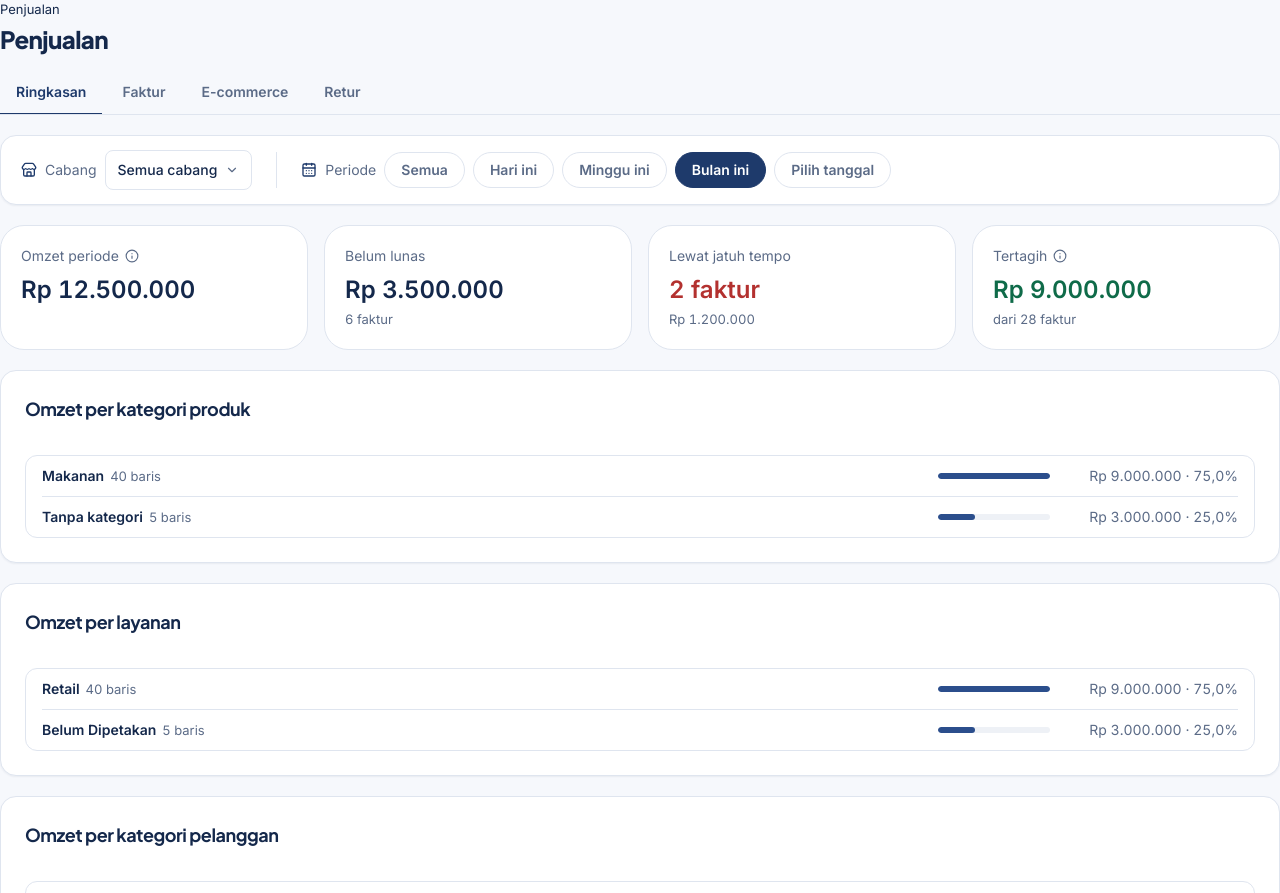
SalesSummaryScreen › re-asks both endpoints when a chip or the cabang changes
Click the button "Hari ini".
click(514, 170)  # box top-left (473, 152), bottom-right (554, 188)
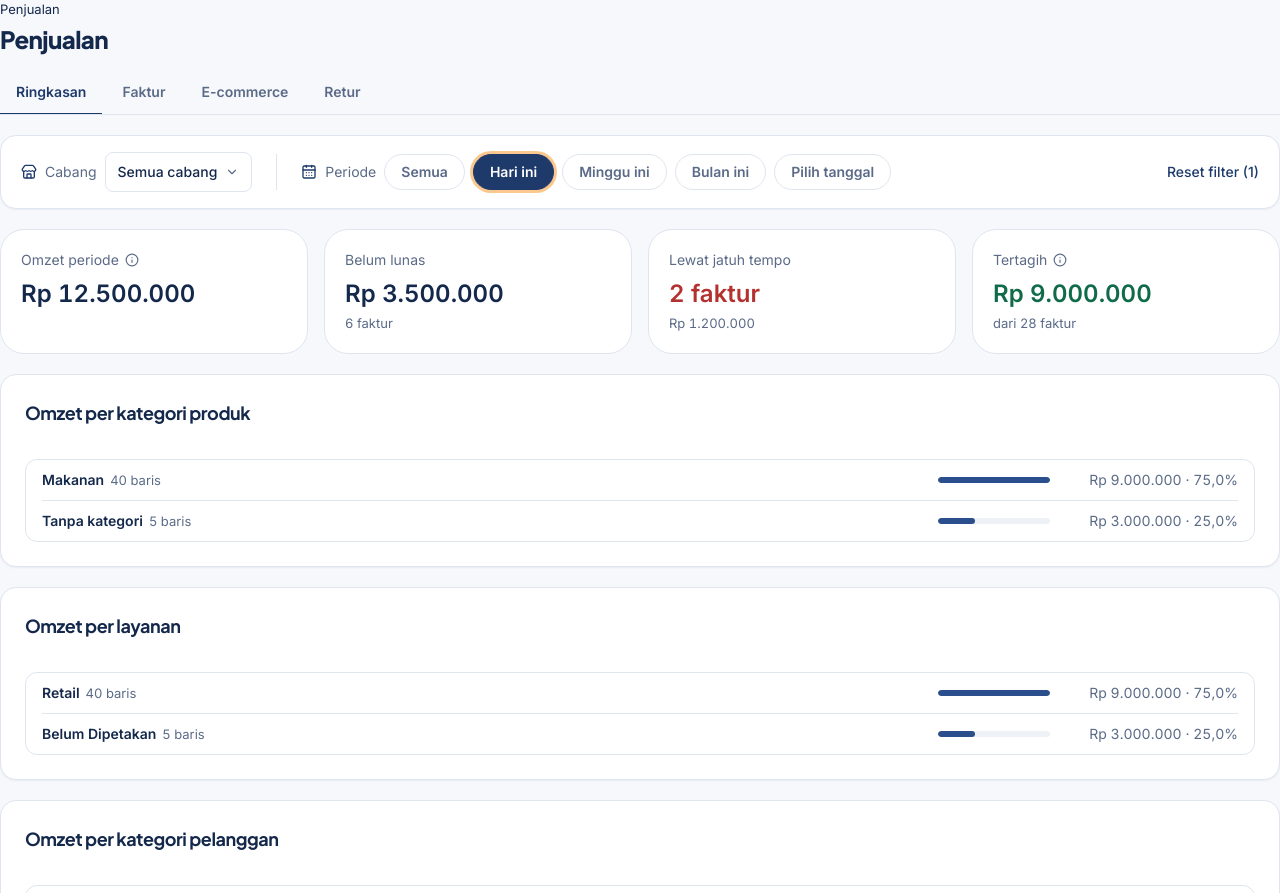
Note: Several cabang may be ticked, so a pick waits for Terapkan.
Click the button "Semua cabang".
click(178, 172)  # box top-left (104, 152), bottom-right (252, 192)
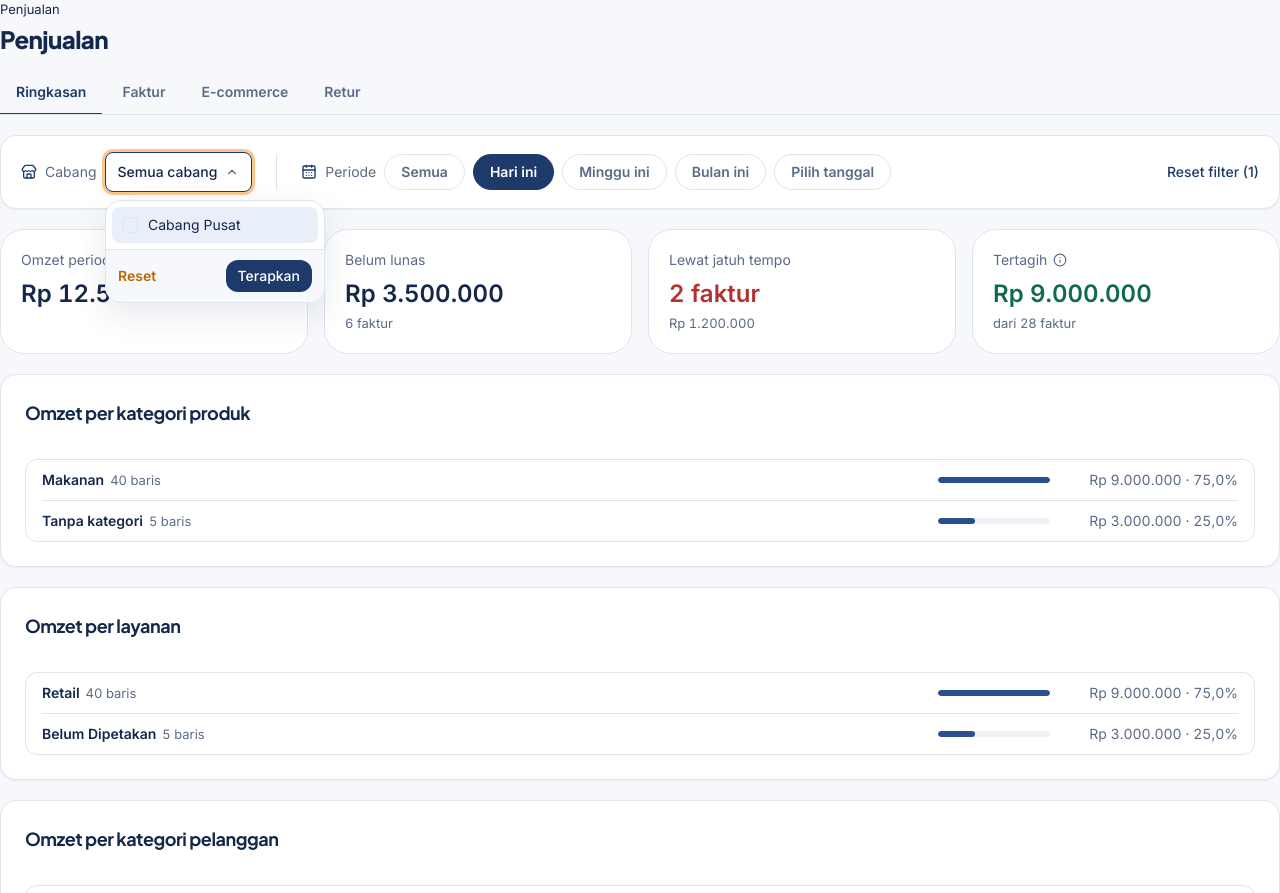
Click the option "Cabang Pusat".
click(215, 225)  # box top-left (112, 207), bottom-right (318, 243)
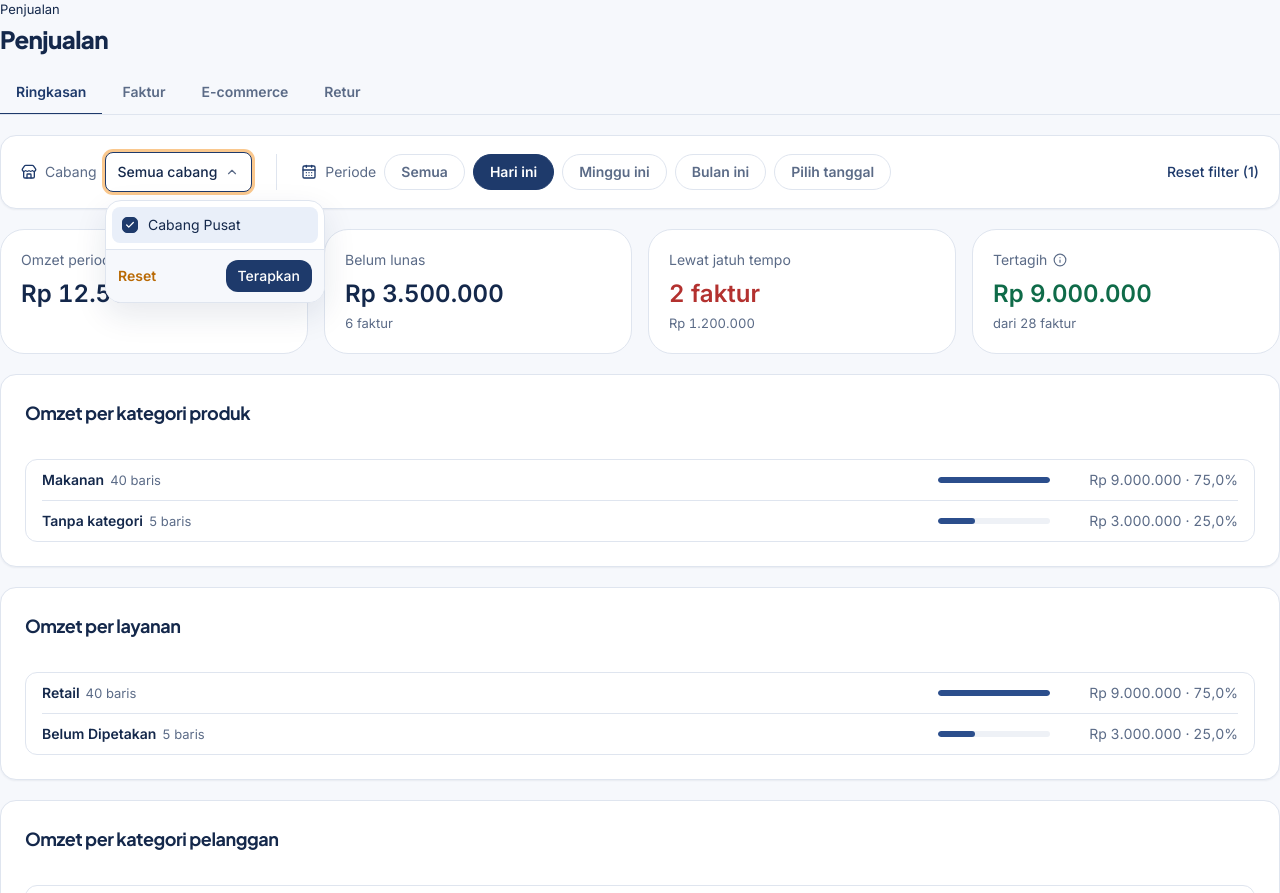
Click the button "Terapkan".
click(269, 276)  # box top-left (226, 260), bottom-right (312, 292)
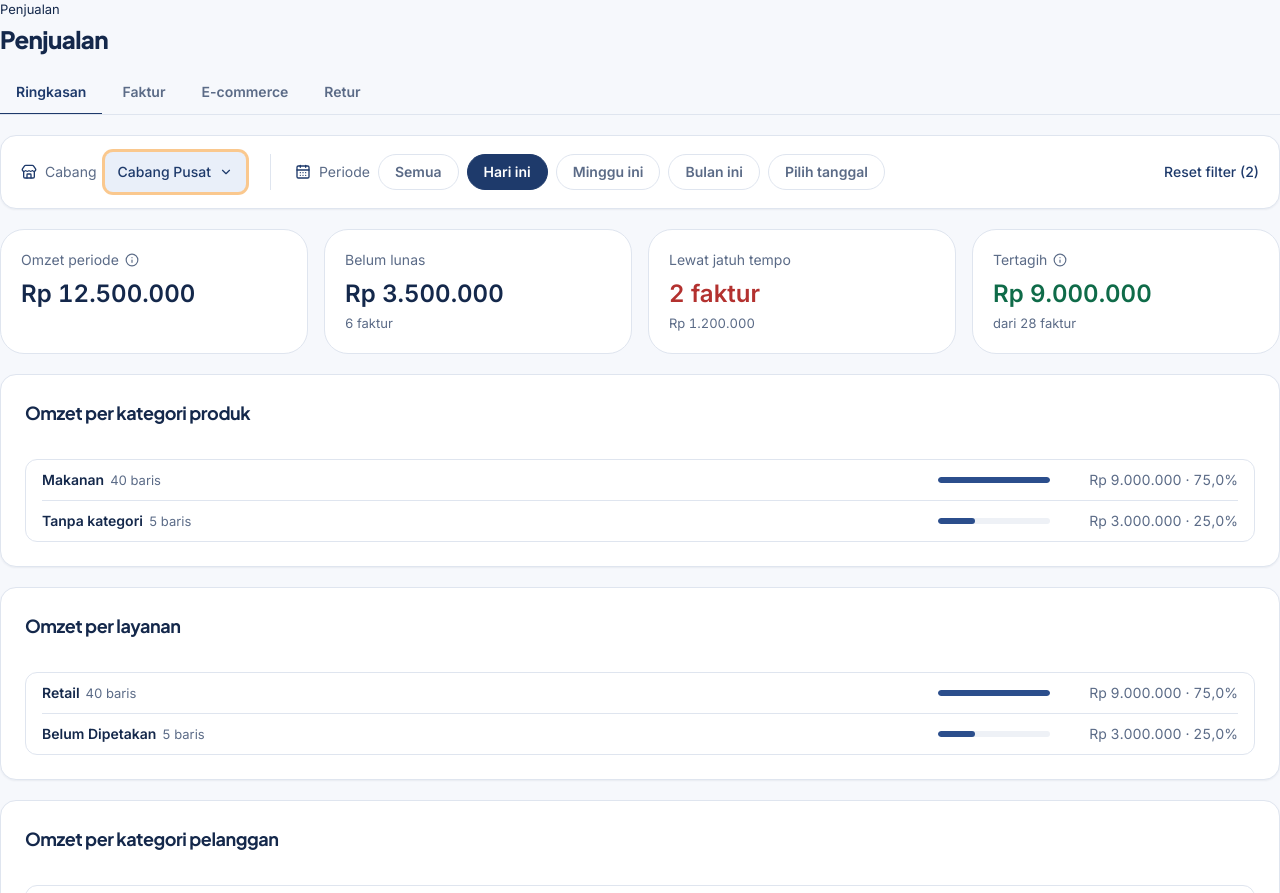
Note: Two off the default — a cabang and a period that is not Bulan ini.
Click the button "Reset filter (2)".
click(1212, 172)  # box top-left (1164, 150), bottom-right (1259, 194)
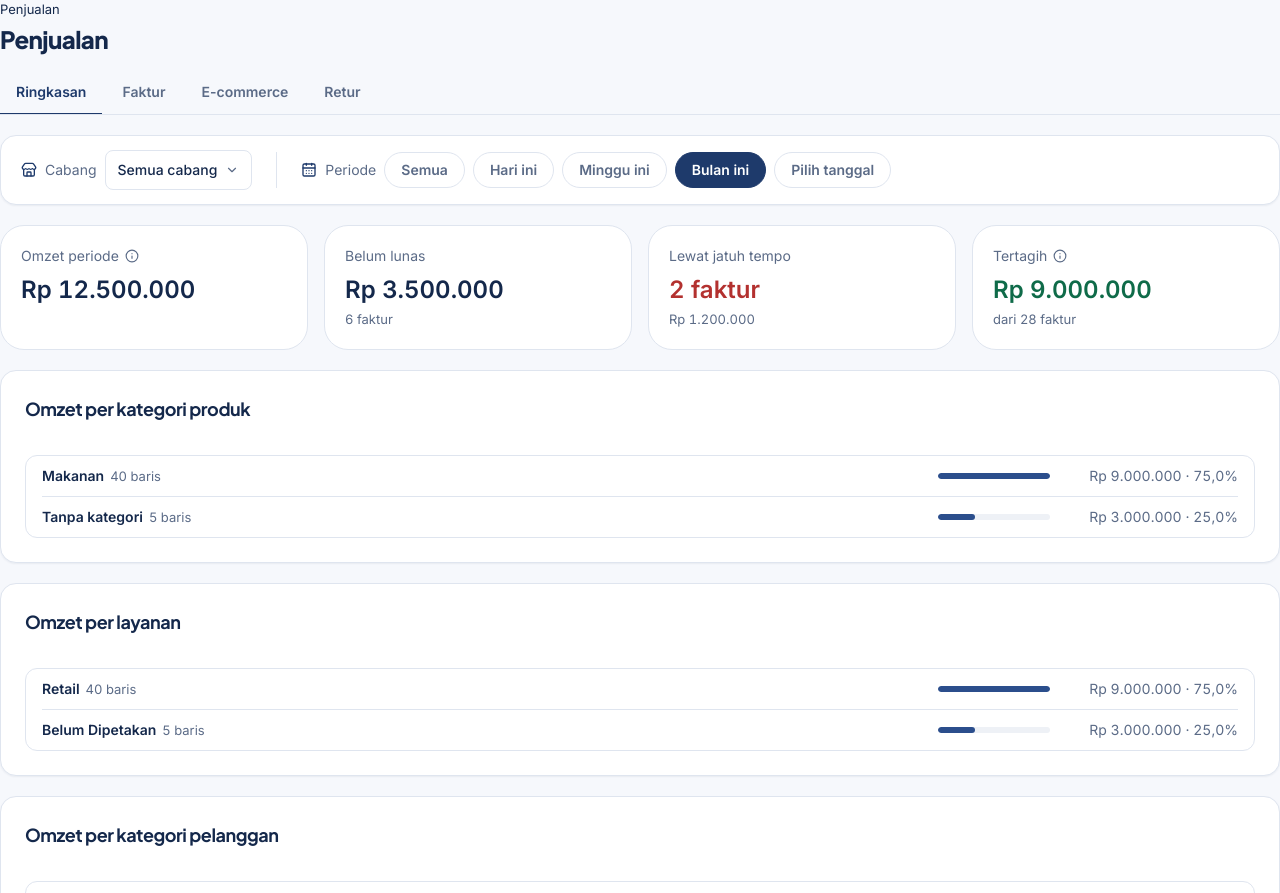
Expected: the button "Reset filter" is gone
